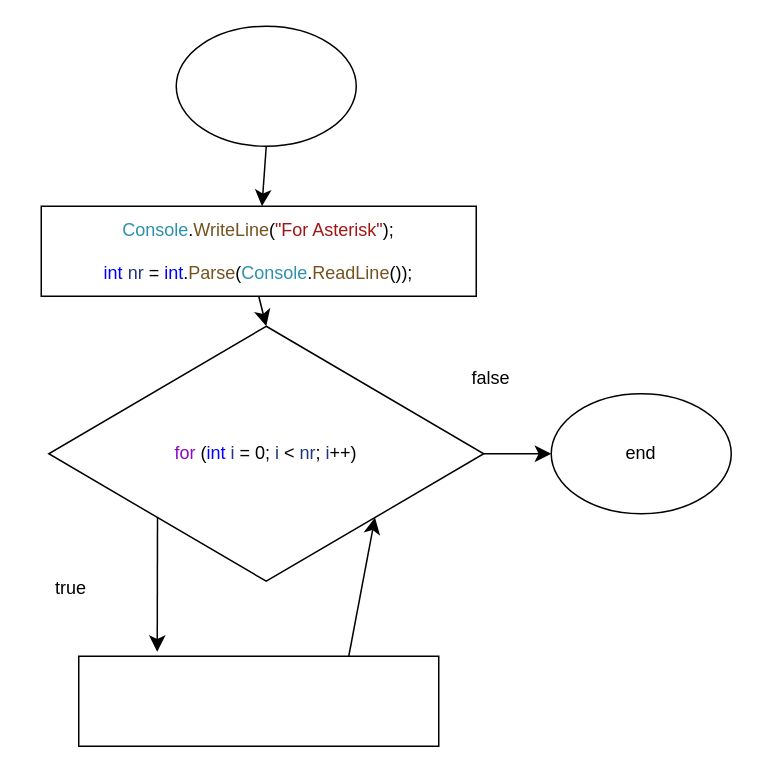
Some shapes in this 758 by 777 pixel diagram are drawn without their labels. Each missing label, with the centre of its shape:
Console . WriteLine ( "*" );: the point at 258,700
start: the point at 265,85
